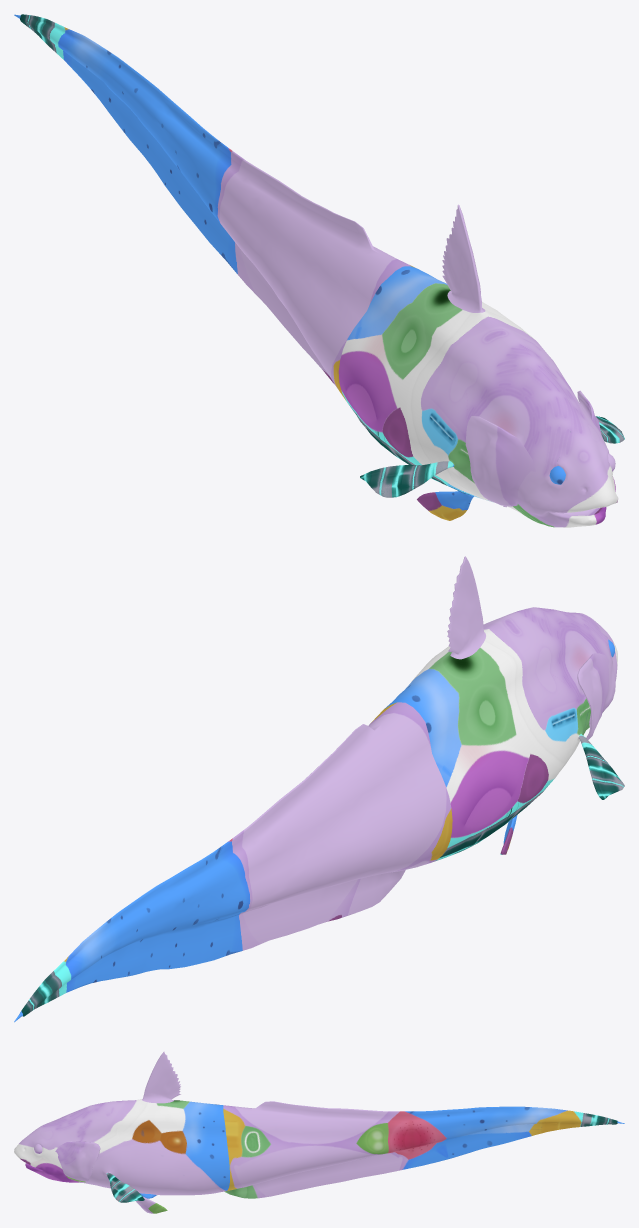
The model's file is Abyssal Granadier.gltf.
3 renders of one model, top to bottom at view 1: azimuth 30°, elevation 25°; view 2: azimuth 150°, elevation 25°; view 3: azimuth 270°, elevation 25°, orthographic. The views are drawn at different scales.
Parts seen in each view (by area): view 1: node_id42; view 2: node_id42; view 3: node_id42.
Part boxes in pixels (x1=…): node_id42: x1=14, y1=14, x2=624, y2=527; node_id42: x1=14, y1=556, x2=624, y2=1022; node_id42: x1=14, y1=1051, x2=624, y2=1213.
Size of the model in its own units: 0.4425 by 0.512 by 1.85.
